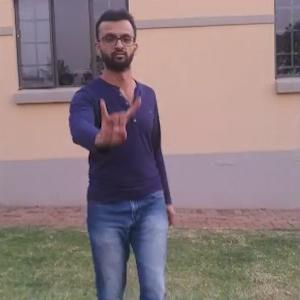takeoff-hand: (89, 88, 142, 155)
